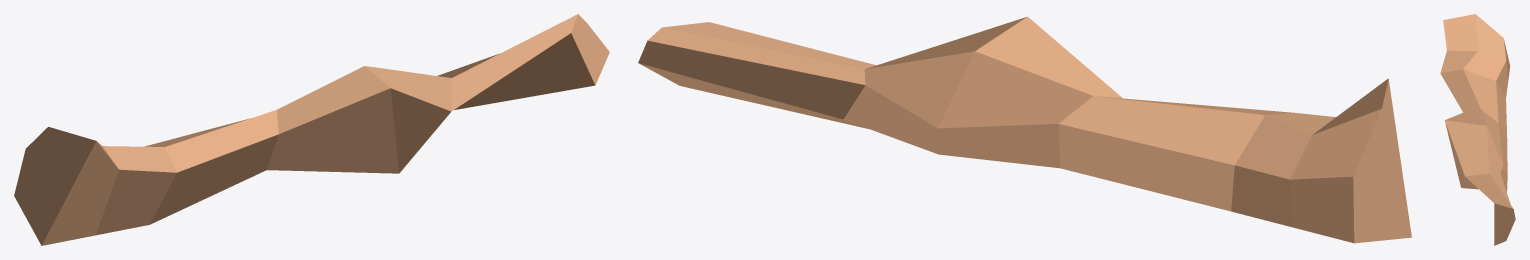
The model's file is Mountain_RightSide.fbx.
The picture shows the model from 3 angles, left to right: view 1: azimuth 30°, elevation 25°; view 2: azimuth 150°, elevation 25°; view 3: azimuth 270°, elevation 25°; orthographic projection. The views are drawn at different scales.
Visible parts, largest first — view 1: Plane.001; view 2: Plane.001; view 3: Plane.001.
Boxes of the visible parts, <box> form: Plane.001: <box>14,14,609,245</box>; Plane.001: <box>638,16,1411,243</box>; Plane.001: <box>1440,14,1515,245</box>.
Bounding box in the file's own units: 6668 × 1282 × 1188.
